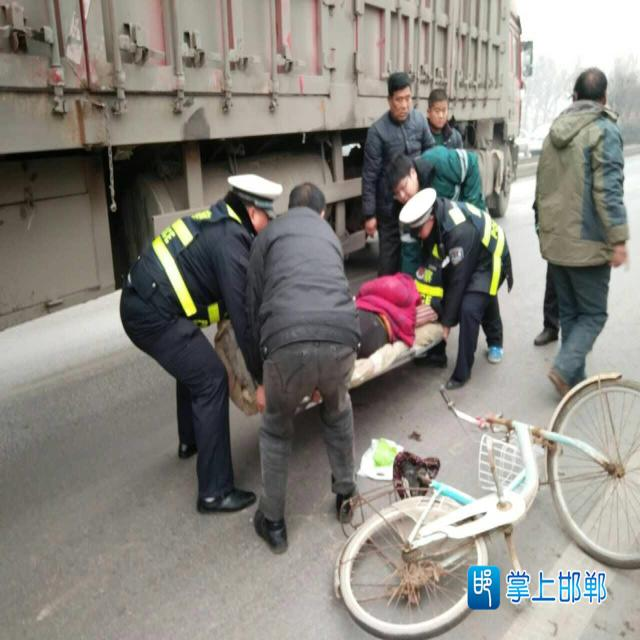fall: (265, 273, 437, 377)
